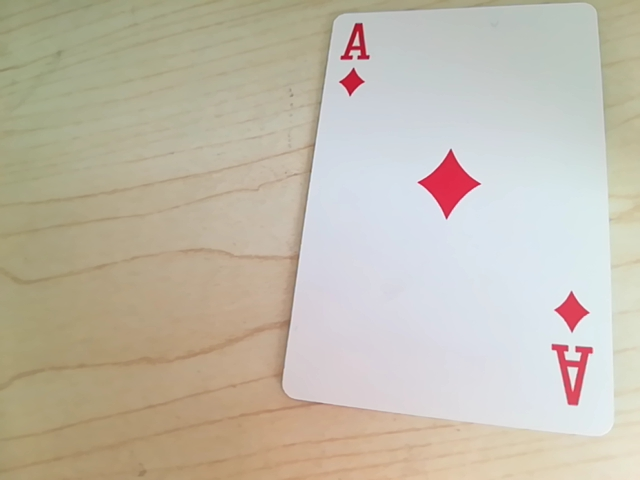fk a: (550, 284, 602, 417), (333, 21, 369, 109)
